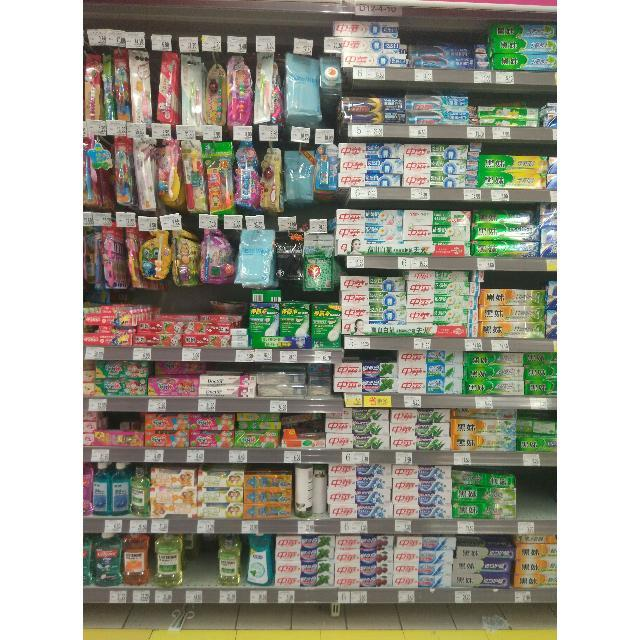empty: (516, 467, 558, 519), (186, 534, 217, 588)
front: (307, 395, 343, 399), (312, 513, 330, 519)
